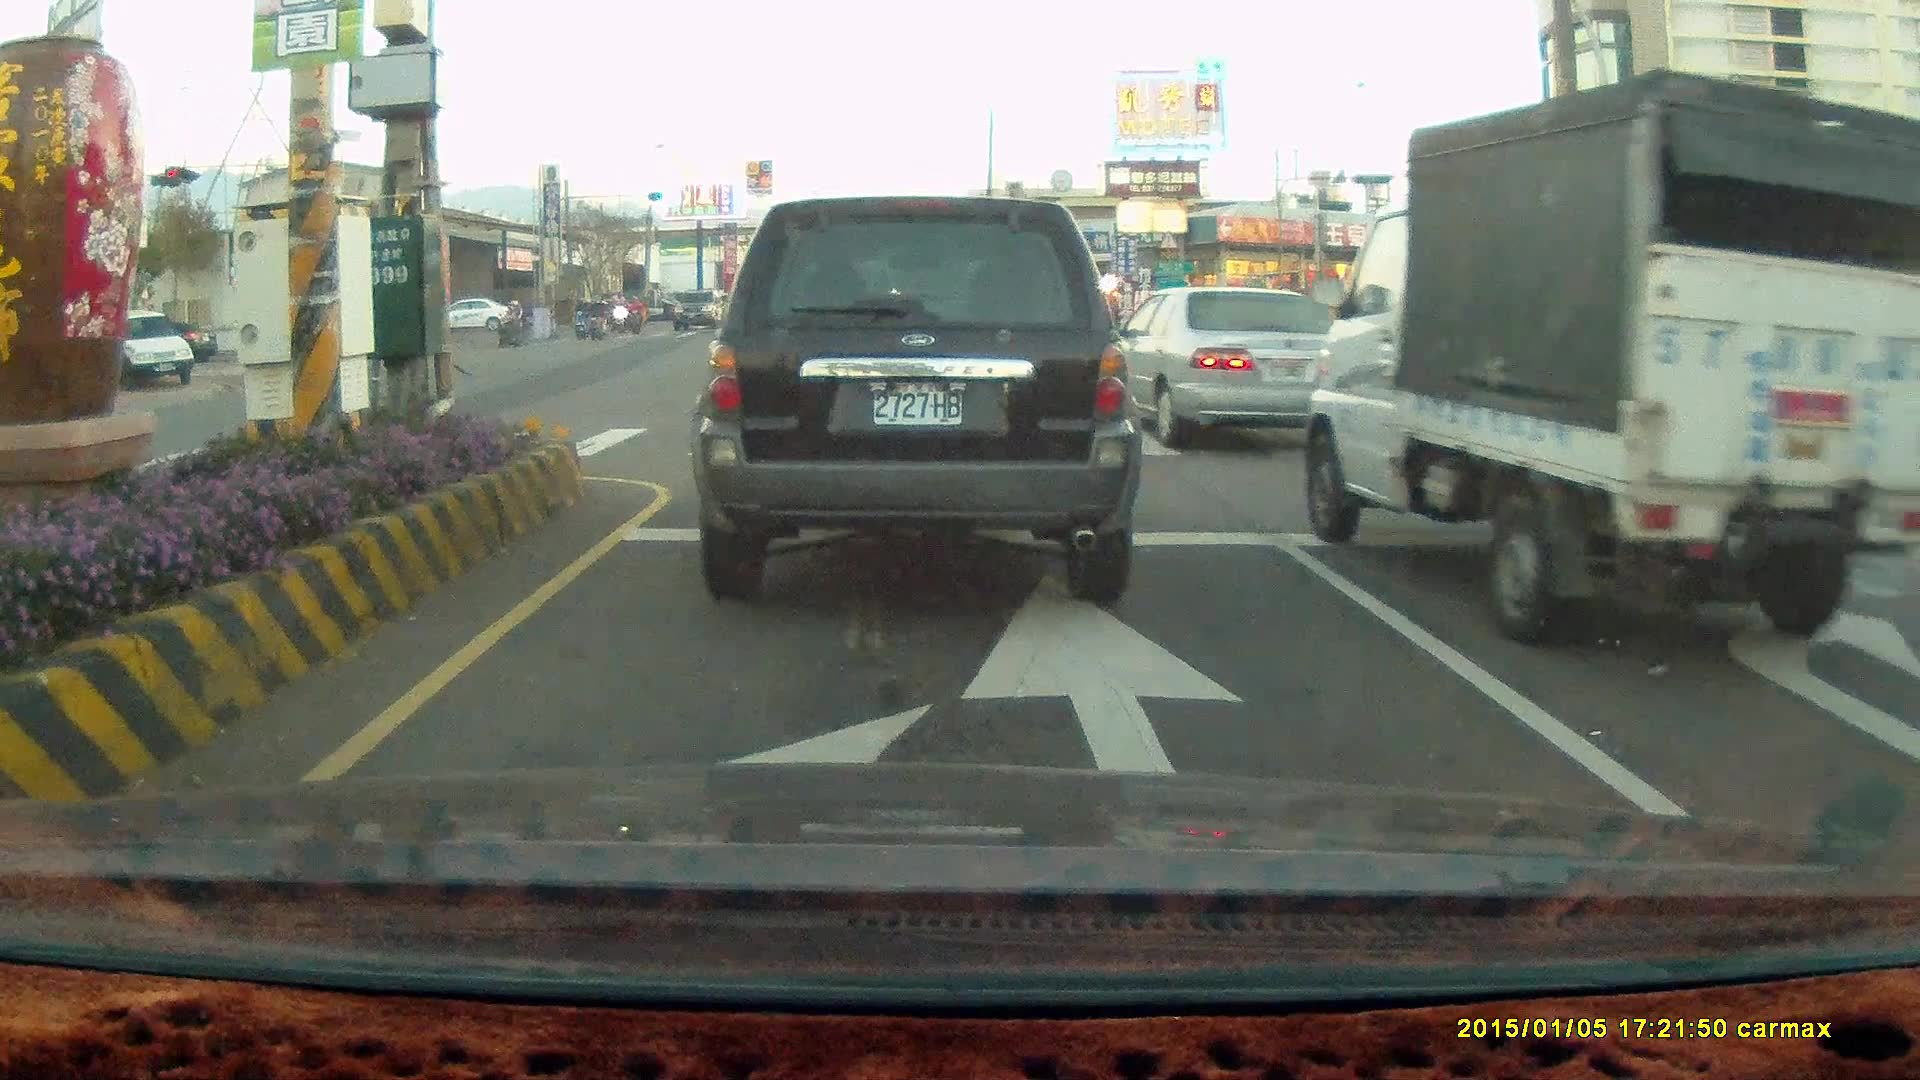rider: (495, 297, 528, 345), (583, 292, 610, 344), (571, 292, 593, 341), (625, 292, 646, 335)
vehicle: (1304, 66, 1920, 653), (686, 193, 1142, 602), (1100, 280, 1372, 447), (1102, 286, 1363, 455), (1696, 285, 1853, 372), (98, 310, 197, 391), (448, 299, 510, 336)
